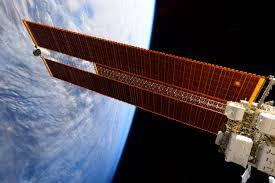solar: (21, 16, 275, 113), (39, 55, 232, 137)
